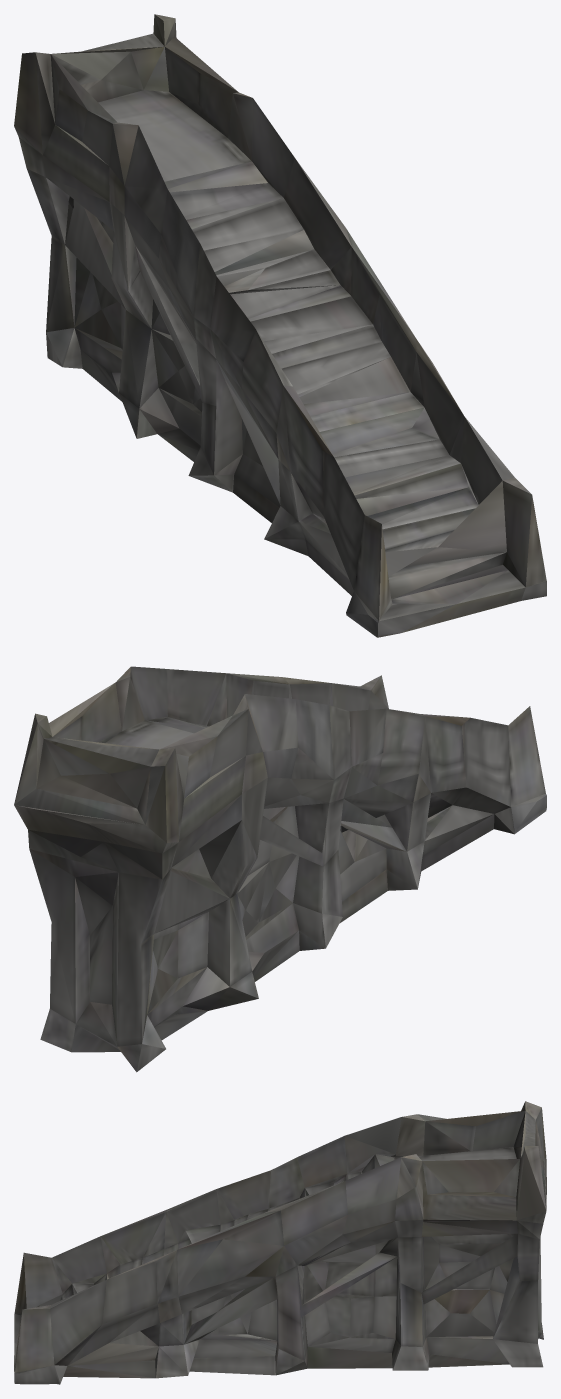
File: imperial_city_wall_stair_lod2.glb
The picture shows the model from 3 angles, top to bottom: view 1: azimuth 30°, elevation 25°; view 2: azimuth 150°, elevation 25°; view 3: azimuth 270°, elevation 25°; orthographic projection. The views are drawn at different scales.
Parts seen in each view (by area): view 1: mesh_node; view 2: mesh_node; view 3: mesh_node.
Part boxes in pixels (x1,y1,x2,y2): mesh_node: [14, 14, 546, 637]; mesh_node: [14, 666, 546, 1072]; mesh_node: [14, 1101, 546, 1384].
Size of the model in its own units: 3.35 by 6.1 by 12.8.
1 material, 1 textured.
